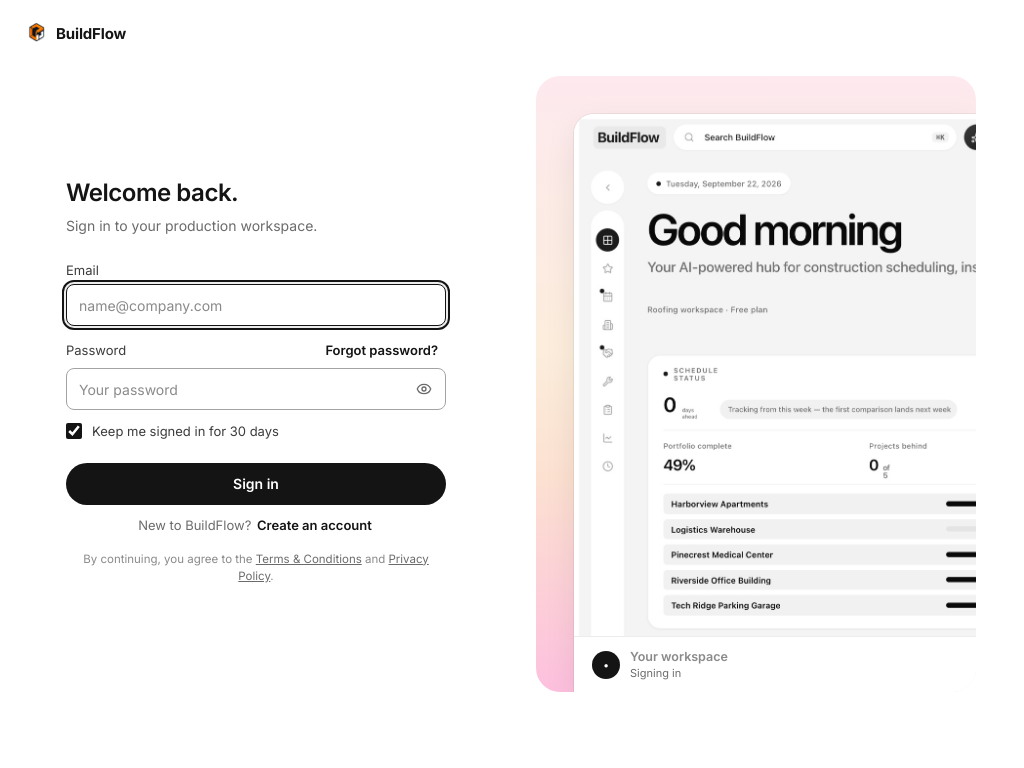
Test: signing in › asks for both halves before it asks the server
This screenshot has width=1024, height=768.
Click the button "Sign in": [256, 484] box [66,463,446,505]
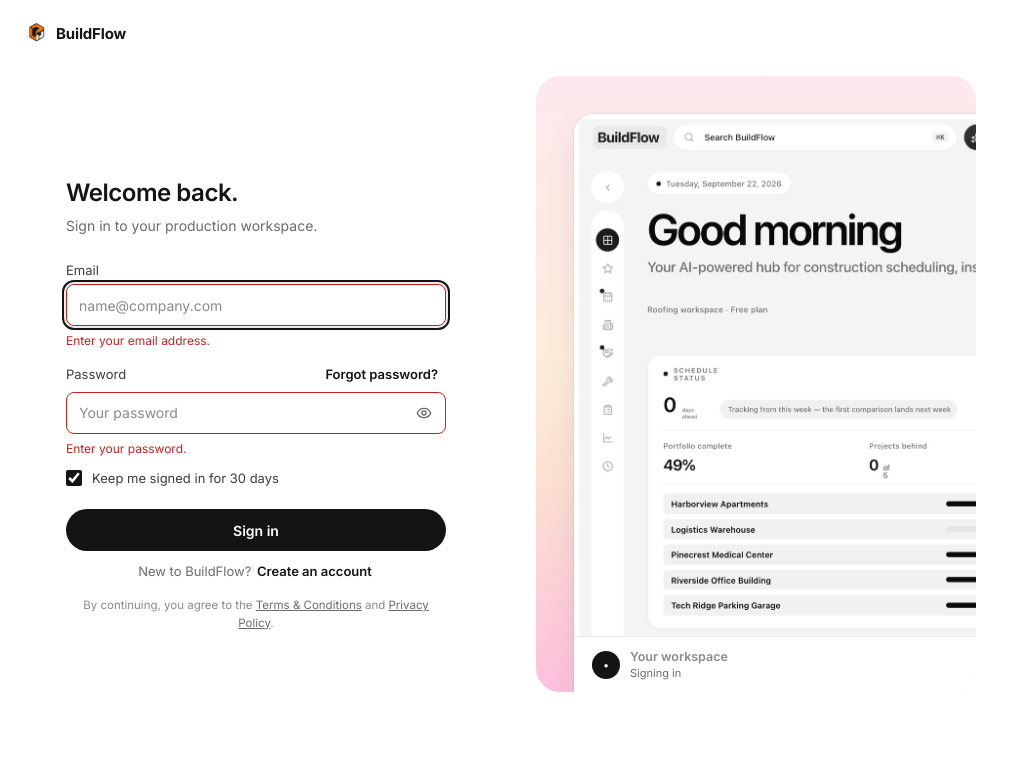
Now the messages read "Enter your email address.", "Enter your password.", in this order, box [66,333,210,348]; [66,441,186,456]
In the field labelled "Email": [256, 305] box [66,284,446,326], type "not-an-address"
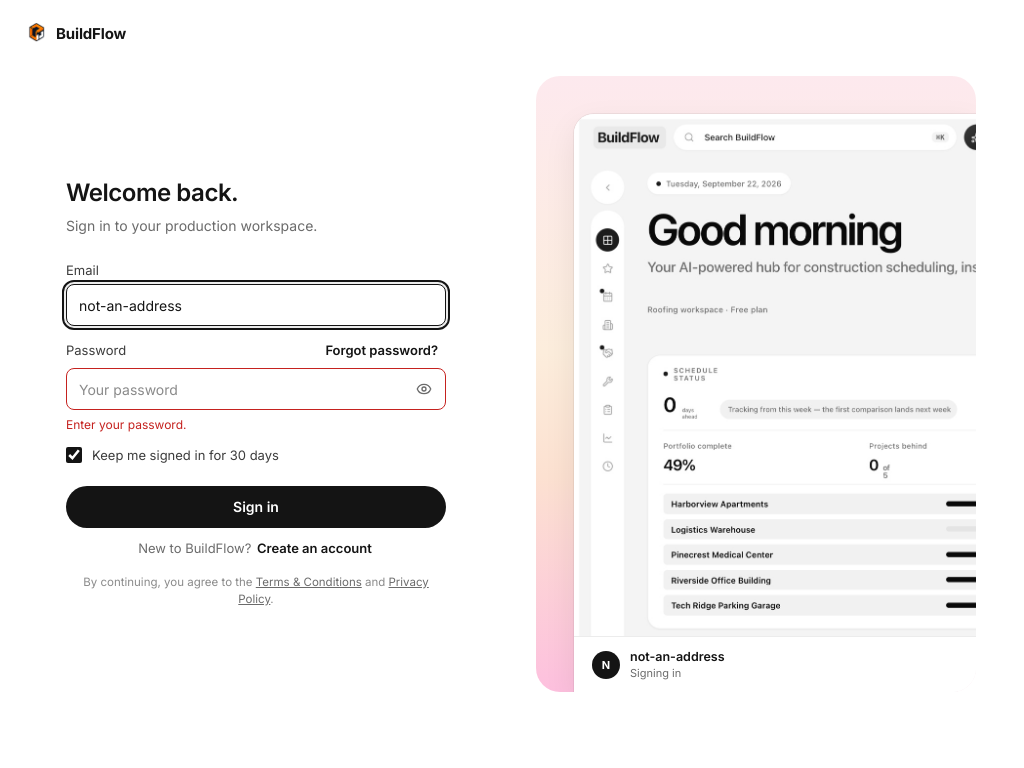
In the password field labelled "Password": [256, 389] box [66,368,446,410], type "hunter2hunter2"
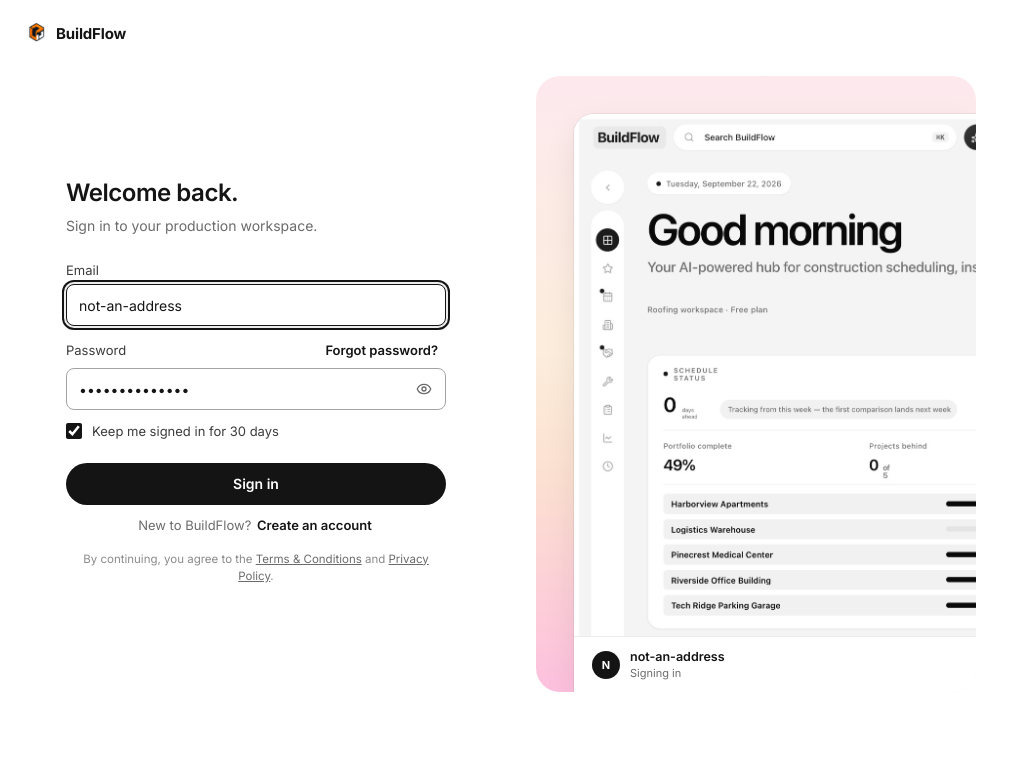
Click the button "Sign in": [256, 484] box [66,463,446,505]
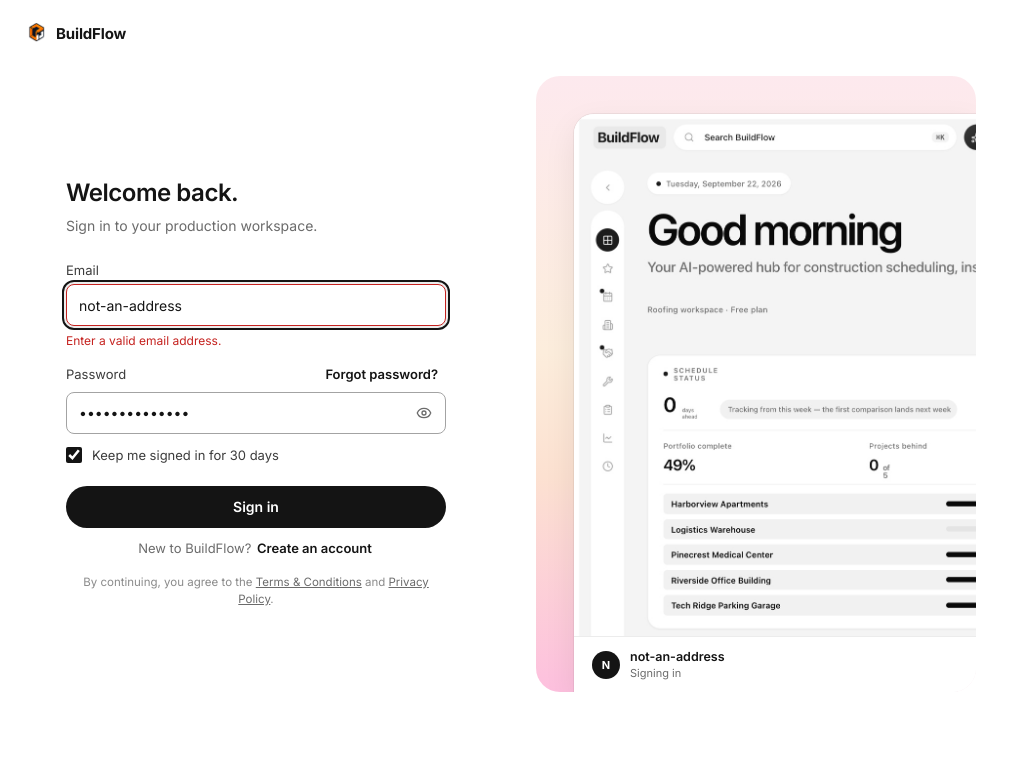
Now the message reads "Enter a valid email address.", box [66,333,221,348]
